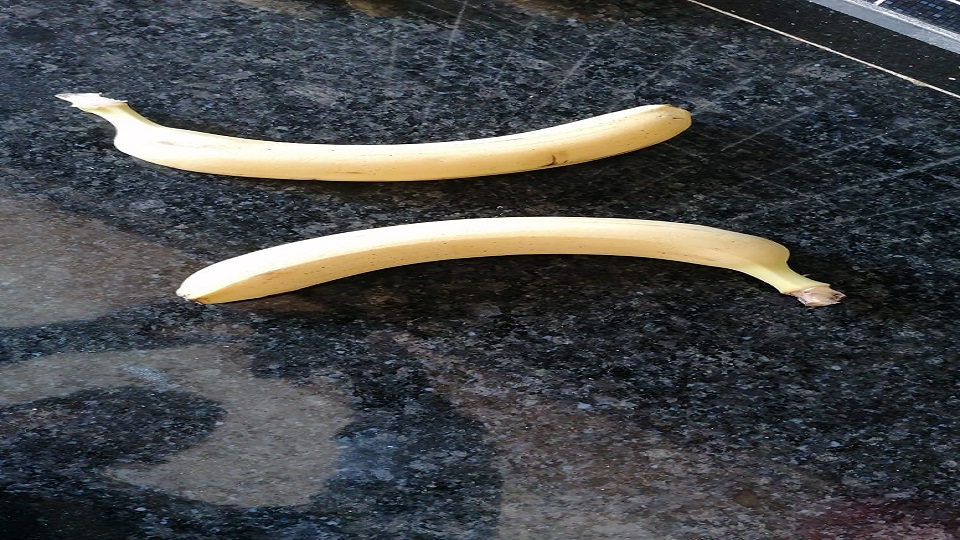muz: (175, 214, 845, 308), (54, 91, 693, 183)
